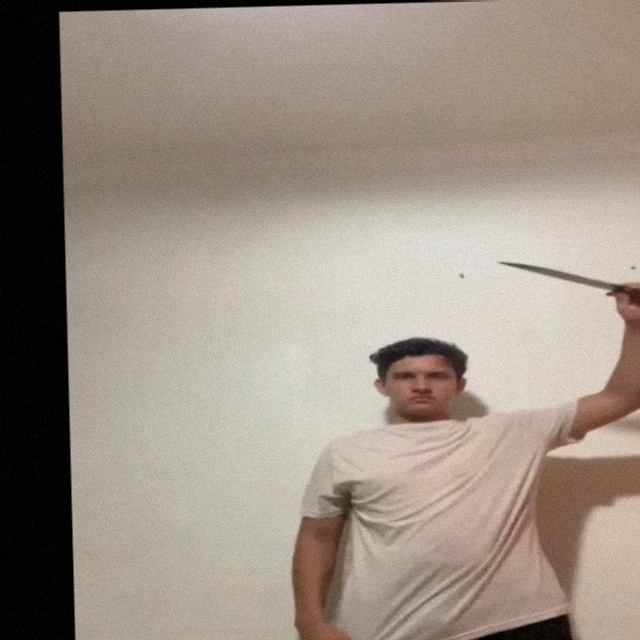Sharp-Object: (496, 254, 616, 294)
